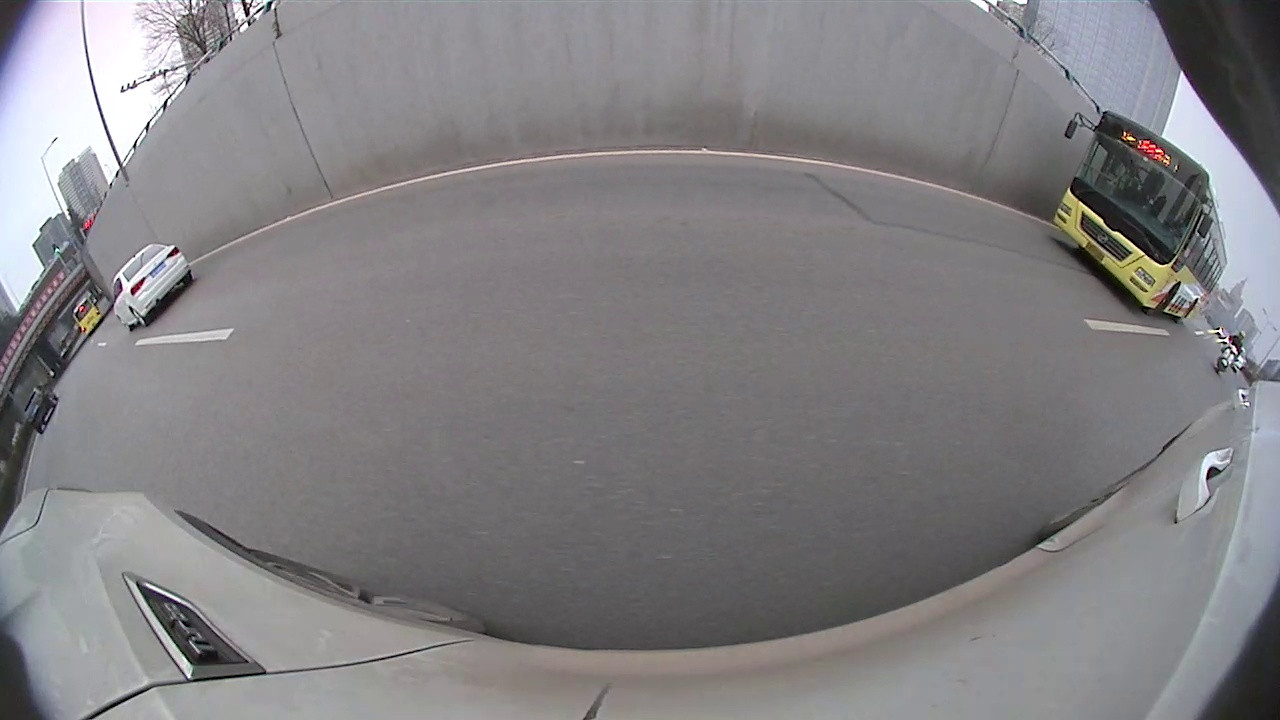bus: (987, 116, 1279, 385), (2, 206, 240, 408)
car: (327, 121, 540, 263), (42, 272, 171, 362), (169, 217, 298, 279), (507, 150, 565, 200), (601, 151, 620, 190)
front: (1065, 239, 1117, 298), (525, 184, 539, 219)
rear: (662, 151, 709, 229), (470, 197, 494, 249)
truck: (598, 0, 973, 230)
